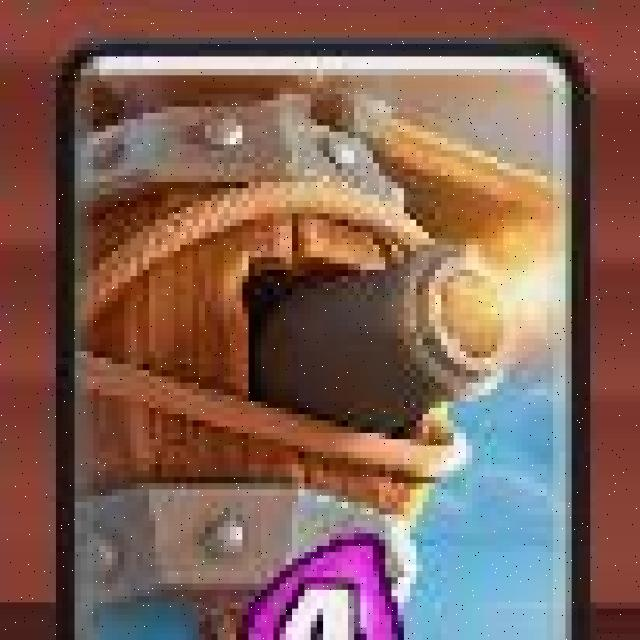Flying_Machine: (54, 37, 594, 640)
